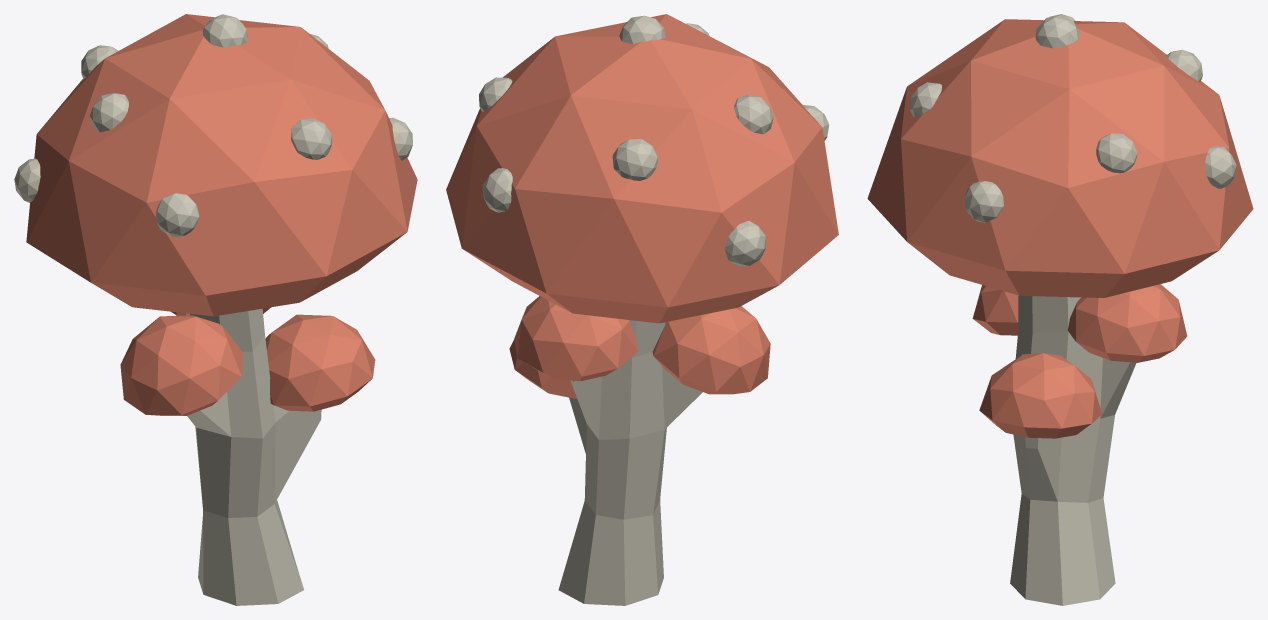
File: Mushroom_03.fbx
The picture shows the model from 3 angles, left to right: view 1: azimuth 30°, elevation 25°; view 2: azimuth 150°, elevation 25°; view 3: azimuth 270°, elevation 25°; orthographic projection. The views are drawn at different scales.
Parts seen in each view (by area): view 1: Icosphere.036, Cylinder.023, Icosphere.037; view 2: Icosphere.036, Cylinder.023, Icosphere.037; view 3: Icosphere.036, Cylinder.023, Icosphere.037.
Boxes of the visible parts, x1,y1,x2,y2 form: Icosphere.036: (26, 14, 417, 415); Cylinder.023: (186, 308, 321, 605); Icosphere.037: (14, 14, 412, 236); Icosphere.036: (446, 14, 838, 398); Cylinder.023: (558, 320, 702, 605); Icosphere.037: (479, 15, 829, 266); Icosphere.036: (867, 19, 1253, 438); Cylinder.023: (1010, 295, 1136, 605); Icosphere.037: (909, 14, 1236, 222).
Size of the model in its own units: 26.11 by 43.08 by 27.27.
